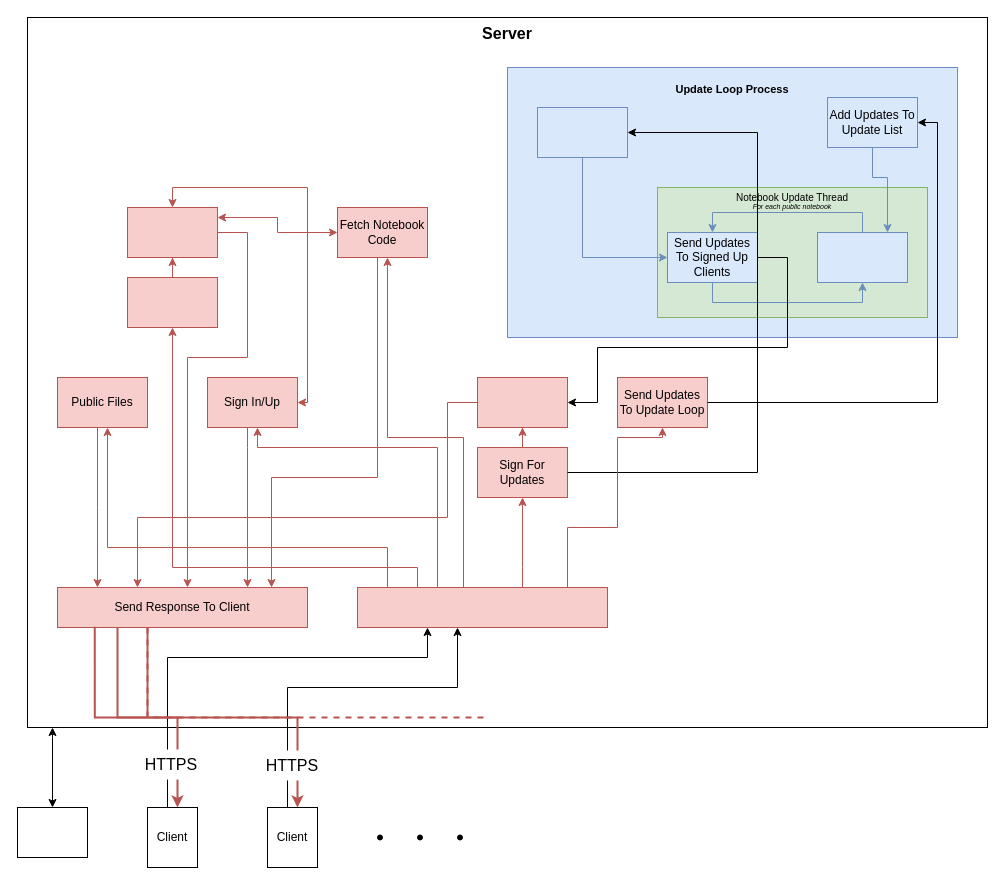
Some shapes in this 1005 by 885 pixel diagram are drawn without their labels. Each missing label, with the centre of its shape:
"Add Client To Notebook Client List" belongs at [582,132].
"Check Authorization using cookies" belongs at [172,232].
"Check For Updates" belongs at [862,257].
"MySQL Server" belongs at [52,832].
"Private Files e.g Private Notebooks, Notebook List..." belongs at [172,302].
"Send Updates" belongs at [522,402].
"Thread Creator" belongs at [482,607].
